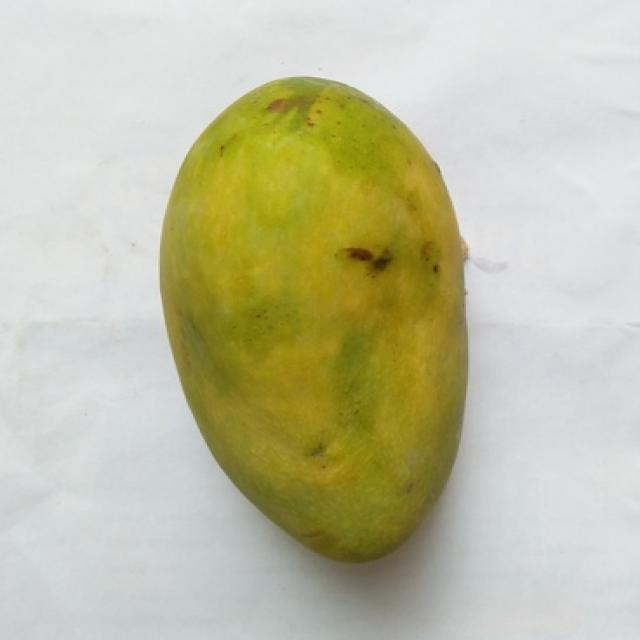Mango: (160, 78, 466, 560)
